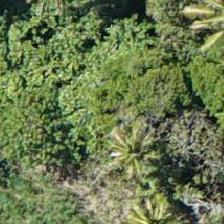coconut_tree: (92, 102, 182, 192), (110, 176, 200, 223)
